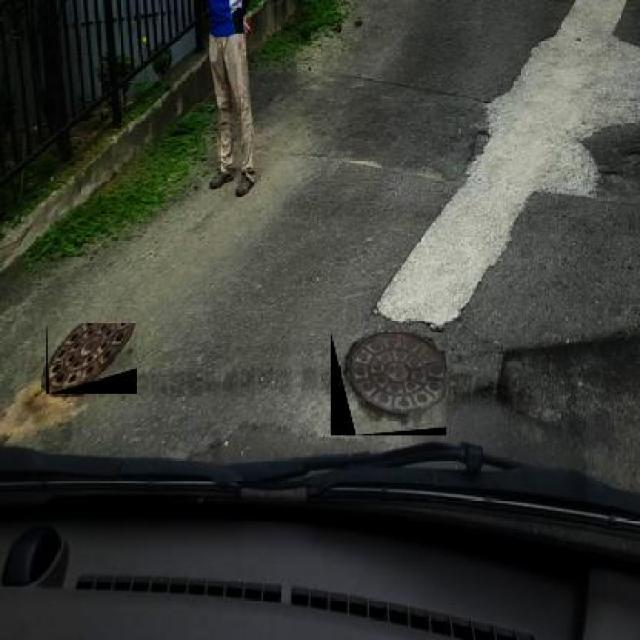Manhole: (331, 332, 446, 436), (46, 324, 137, 394)
Pothole: (498, 314, 640, 442), (451, 380, 518, 412), (467, 128, 492, 158), (600, 166, 622, 191), (626, 143, 640, 168)
